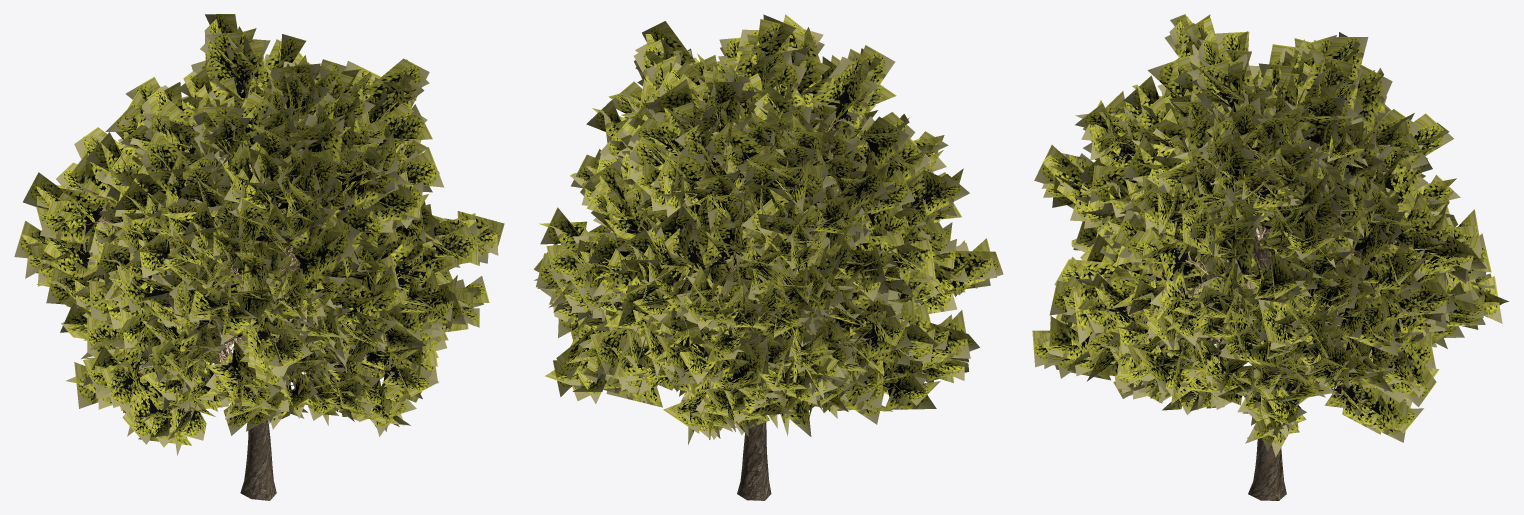
File: trees.glb
3 views of the same model, side by side, from view 1: azimuth 30°, elevation 25°; view 2: azimuth 150°, elevation 25°; view 3: azimuth 270°, elevation 25° (orthographic). The views are drawn at different scales.
Parts seen in each view (by area): view 1: tree_a_leaves, tree_b_leaves, tree_b_bark; view 2: tree_a_leaves, tree_b_leaves, tree_b_bark; view 3: tree_a_leaves, tree_b_leaves, tree_b_bark.
Boxes of the visible parts, x1,y1,x2,y2 form: tree_a_leaves: (14, 14, 504, 455); tree_b_leaves: (60, 60, 445, 425); tree_b_bark: (233, 210, 305, 500); tree_a_leaves: (534, 14, 1003, 444); tree_b_leaves: (552, 76, 961, 436); tree_b_bark: (737, 198, 771, 500); tree_a_leaves: (1032, 14, 1508, 457); tree_b_leaves: (1080, 44, 1491, 438); tree_b_bark: (1248, 226, 1286, 500).
Size of the model in its own units: 4.61 by 5.14 by 4.82.
Materials: 6 (6 with a texture image).
